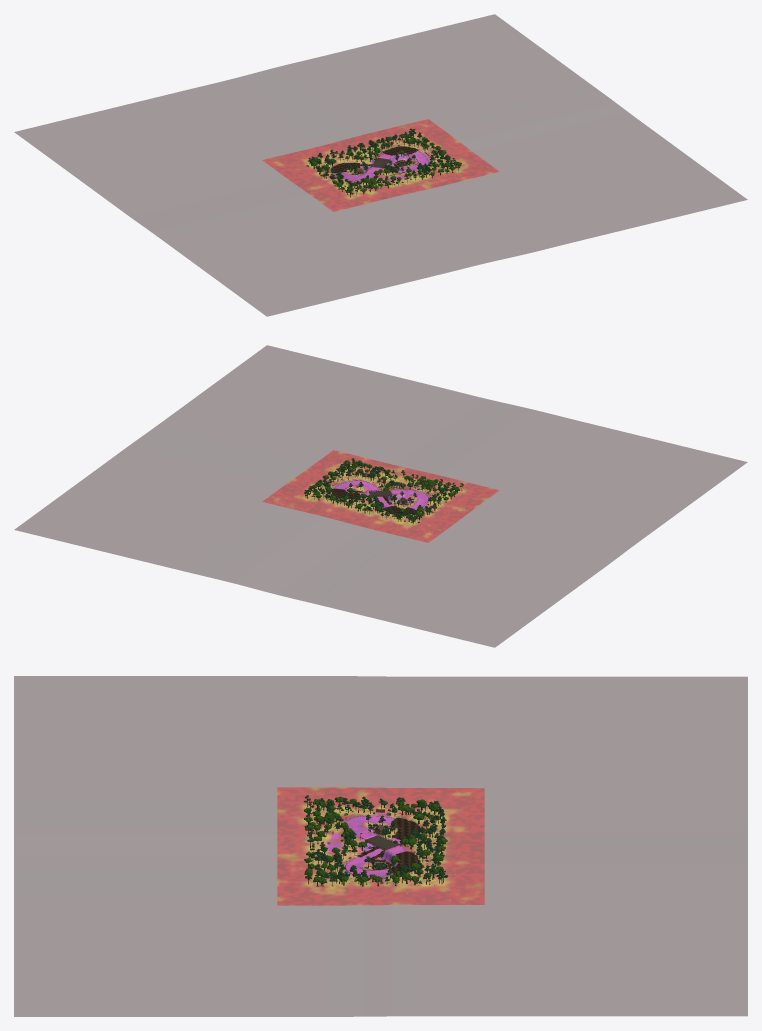
File: forest.glb
3 renders of one model, top to bottom at view 1: azimuth 30°, elevation 25°; view 2: azimuth 150°, elevation 25°; view 3: azimuth 270°, elevation 25°, orthographic. The views are drawn at different scales.
Visible parts, largest first — view 1: Weite_0, Weite_1, Weite_3, Weite_2, Gelaende; view 2: Weite_0, Weite_1, Weite_2, Weite_3, Gelaende; view 3: Weite_1, Weite_0, Weite_2, Weite_3, Gelaende.
Boxes of the visible parts, box(x1,y1,x2,y2) form: Weite_0: box(14, 14, 585, 198); Weite_1: box(176, 133, 747, 316); Weite_3: box(429, 80, 656, 171); Weite_2: box(105, 160, 332, 250); Gelaende: box(262, 119, 499, 211); Weite_0: box(14, 463, 585, 647); Weite_1: box(176, 345, 747, 528); Weite_2: box(429, 490, 656, 581); Weite_3: box(105, 411, 332, 501); Gelaende: box(262, 450, 499, 542); Weite_1: box(14, 676, 277, 1016); Weite_0: box(484, 676, 747, 1016); Weite_2: box(277, 676, 484, 787); Weite_3: box(277, 905, 484, 1016); Gelaende: box(277, 787, 484, 905).
Bounding box in the file's own units: 428 × 11.44 × 390.
Materials: 25 (16 with a texture image).
